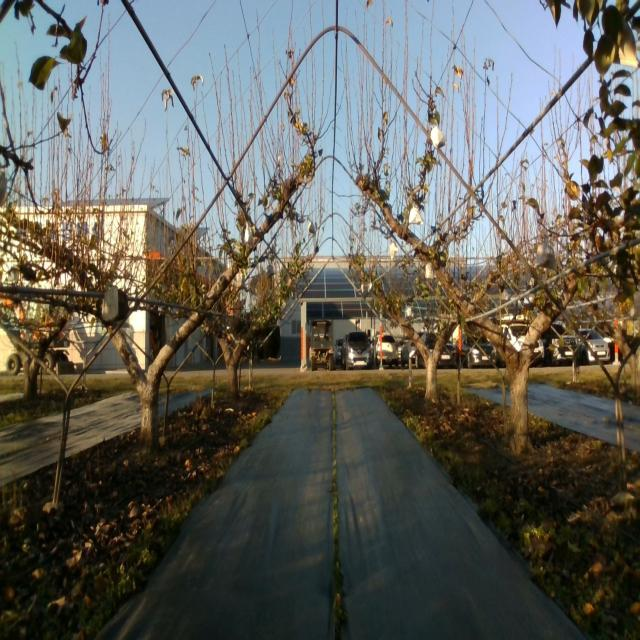pearbags: (612, 19, 640, 67), (534, 240, 557, 272), (431, 126, 446, 150), (409, 205, 423, 225), (425, 260, 437, 280)
